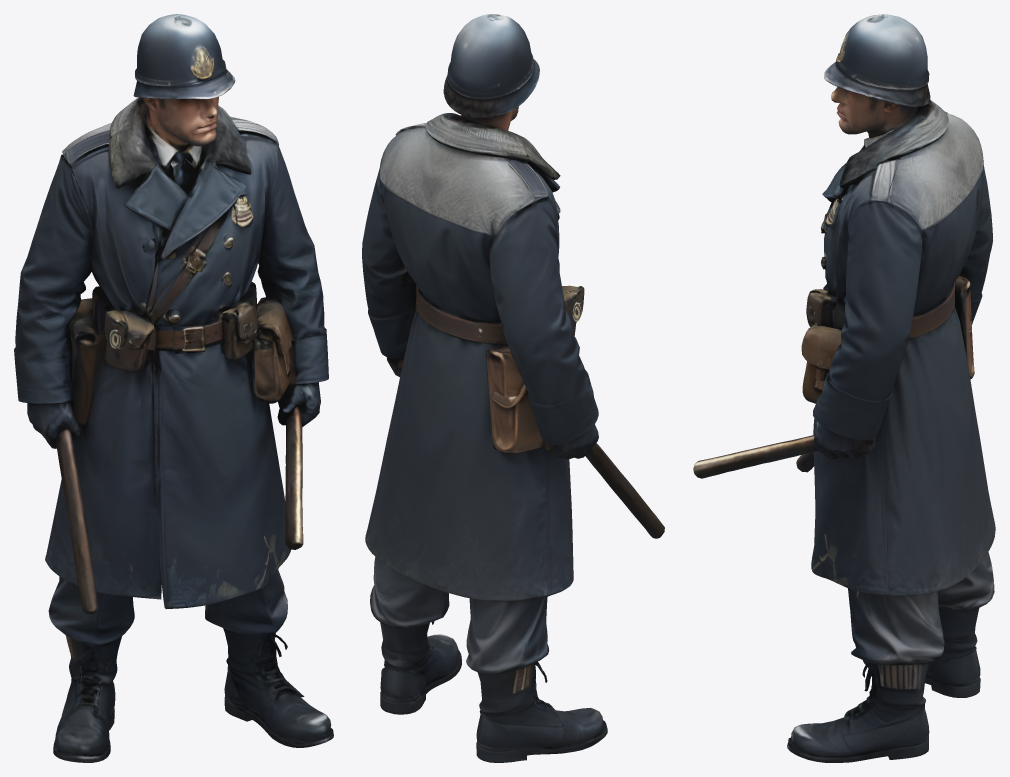
File: character_police_1960s.glb
The picture shows the model from 3 angles, left to right: view 1: azimuth 30°, elevation 25°; view 2: azimuth 150°, elevation 25°; view 3: azimuth 270°, elevation 25°; orthographic projection. The views are drawn at different scales.
Visible parts, largest first — view 1: model; view 2: model; view 3: model.
Boxes of the visible parts, box(x1,y1,x2,y2) form: model: box(14, 14, 333, 762); model: box(362, 14, 664, 762); model: box(693, 14, 995, 762).
Bounding box in the file's own units: 0.7296 × 1.87 × 0.7356.
1 material, 1 textured.
